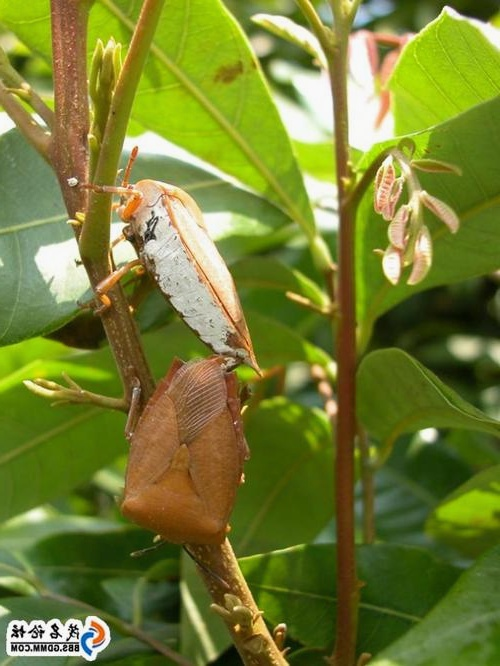Stink_Bug: (110, 352, 262, 556), (113, 161, 254, 342)
